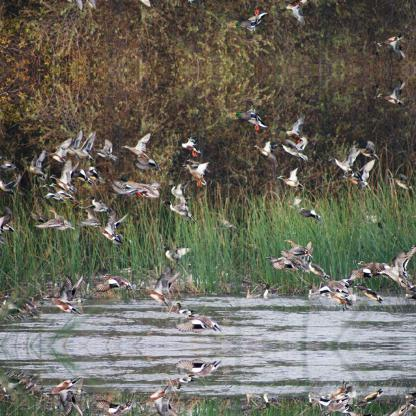Bird: (0, 124, 162, 244), (309, 244, 415, 312), (309, 378, 416, 415), (136, 262, 180, 306), (161, 178, 199, 223), (275, 242, 323, 276), (41, 274, 81, 314), (41, 376, 82, 415), (118, 132, 158, 168), (136, 383, 180, 415), (341, 154, 373, 194), (176, 309, 222, 331), (176, 359, 222, 381), (228, 106, 268, 130), (374, 76, 406, 106), (228, 8, 268, 32), (374, 32, 406, 62), (275, 132, 306, 160), (332, 144, 362, 172), (181, 159, 209, 187), (275, 112, 303, 140), (160, 244, 192, 268), (350, 138, 382, 162), (275, 0, 304, 26), (250, 138, 275, 168), (277, 163, 305, 189), (292, 193, 320, 219), (96, 271, 132, 291), (391, 170, 415, 199), (95, 399, 133, 415), (184, 157, 212, 176), (176, 132, 200, 154), (275, 0, 307, 6), (176, 0, 200, 6)
